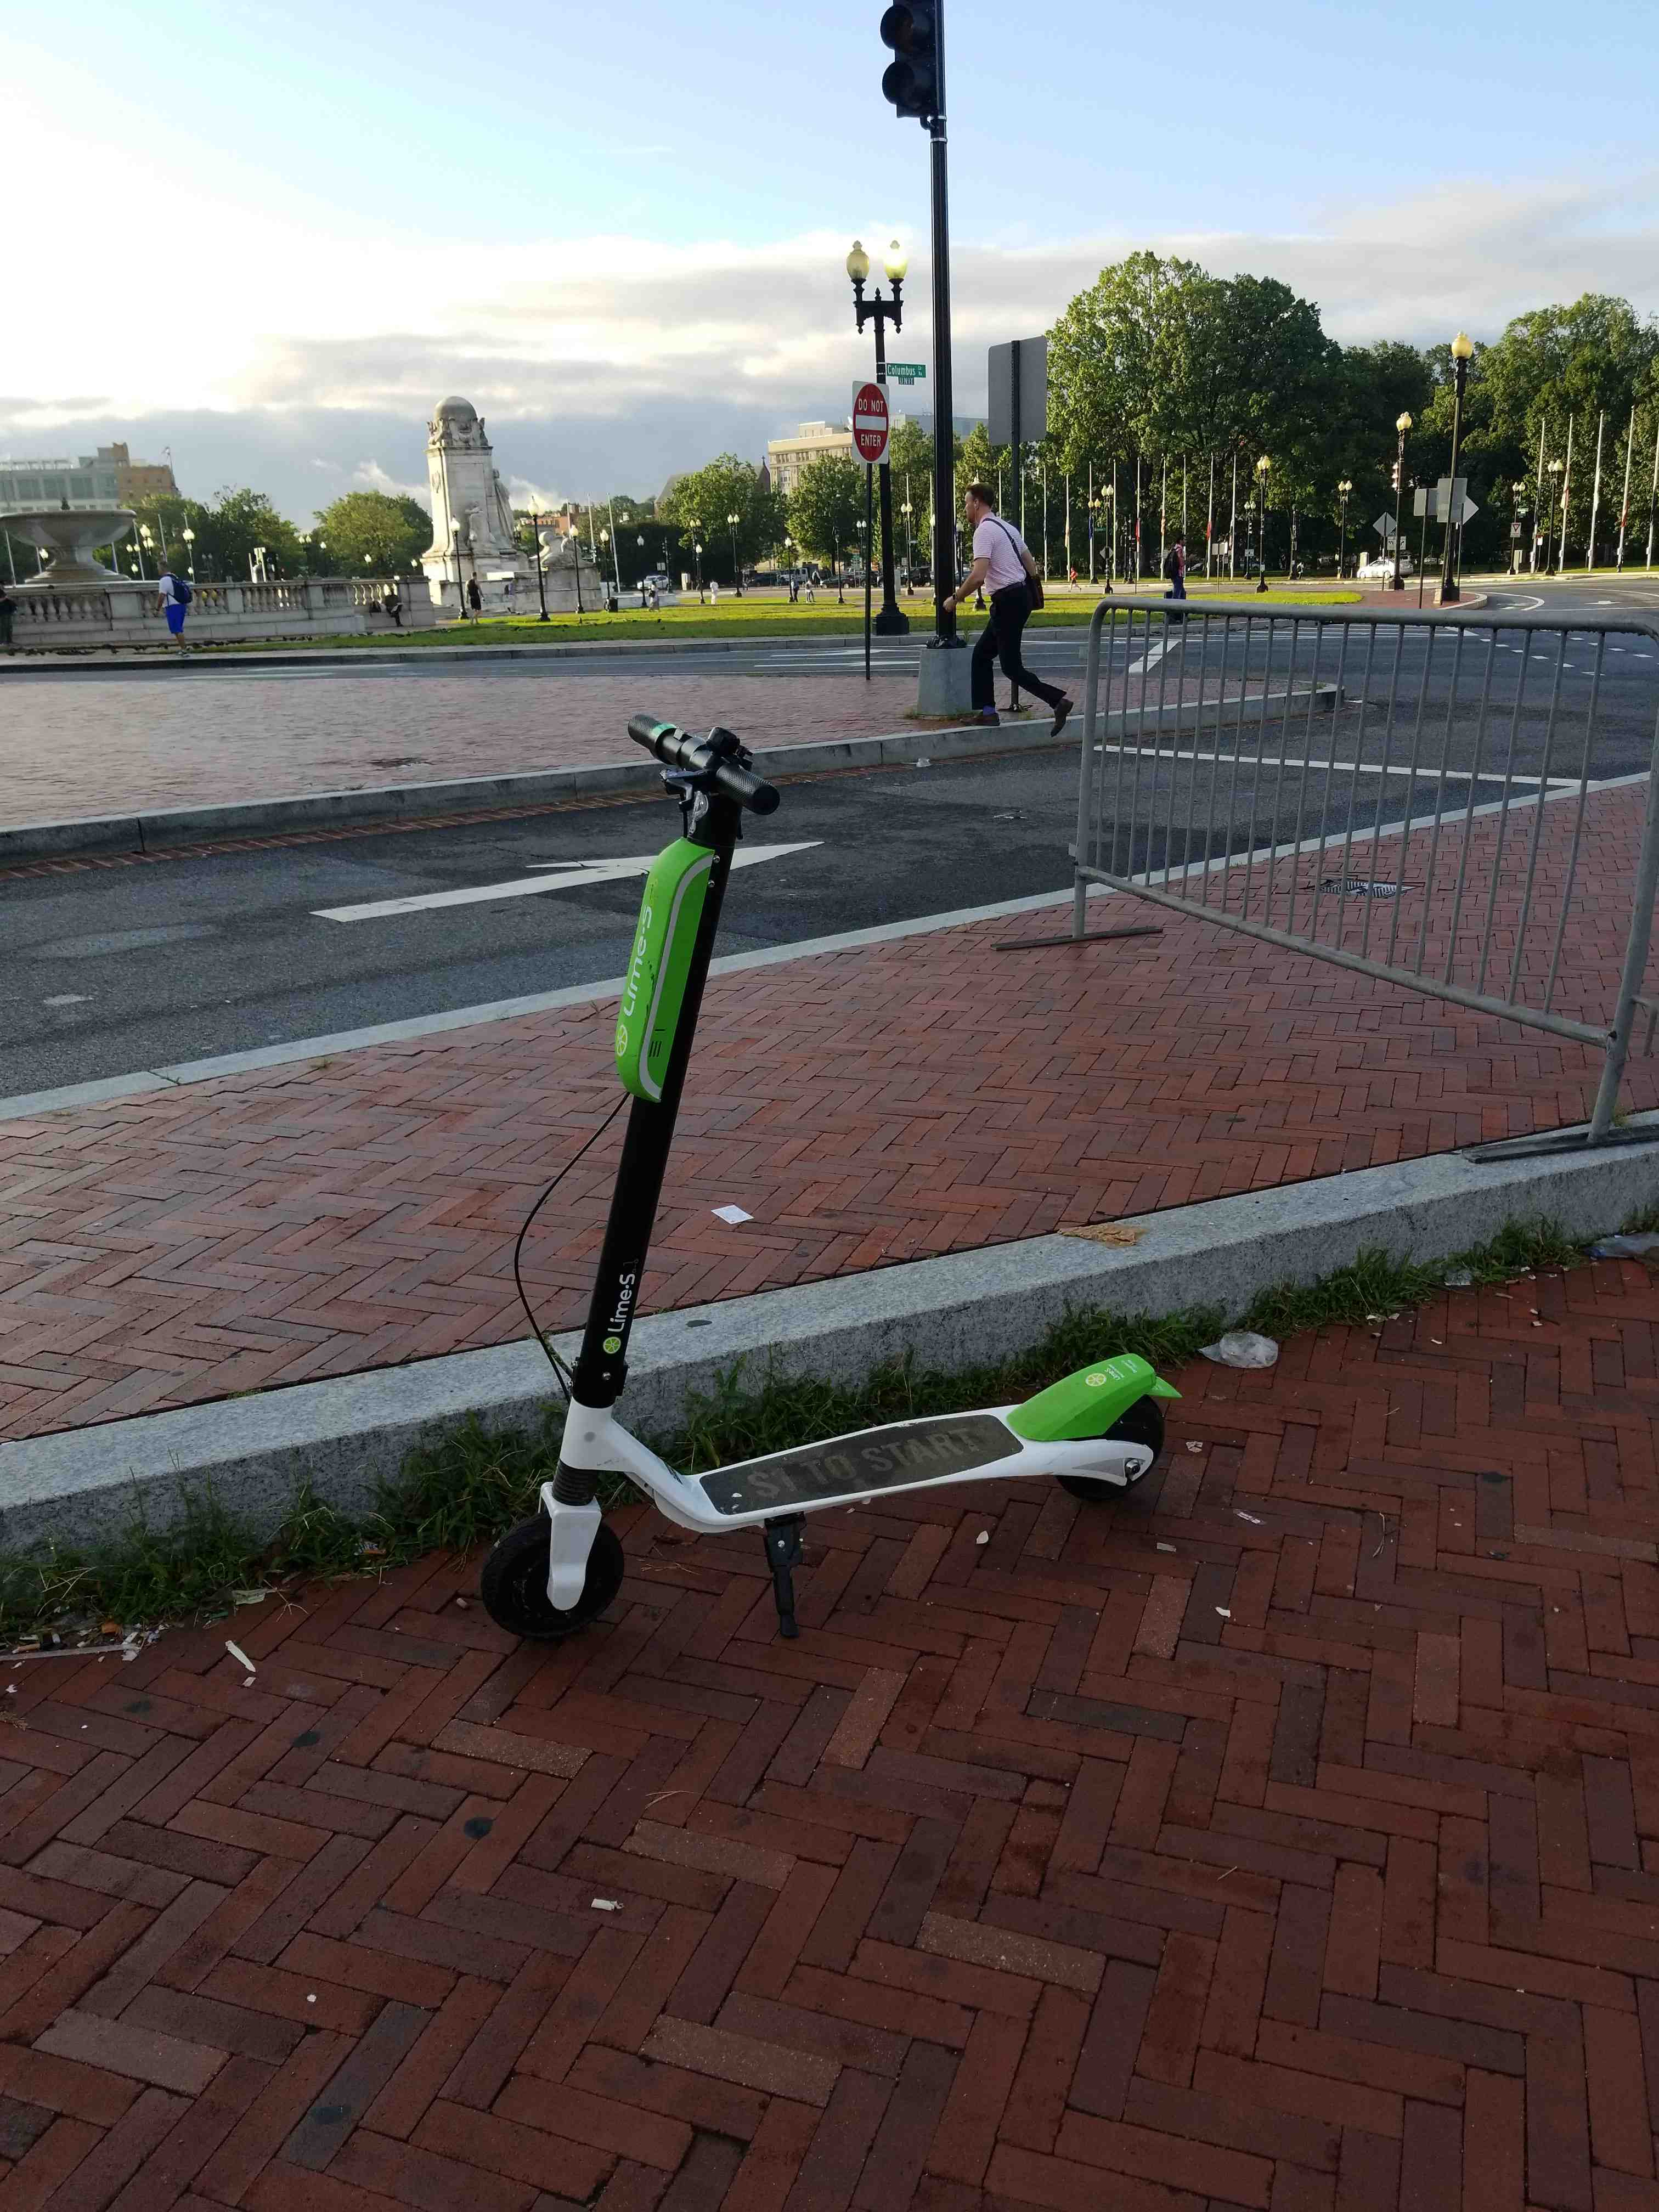scooter: (457, 691, 1199, 1662)
